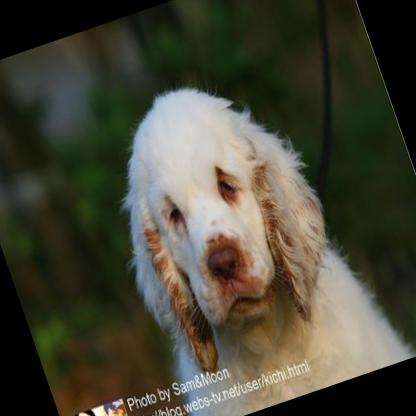clumber: (75, 37, 416, 416)
